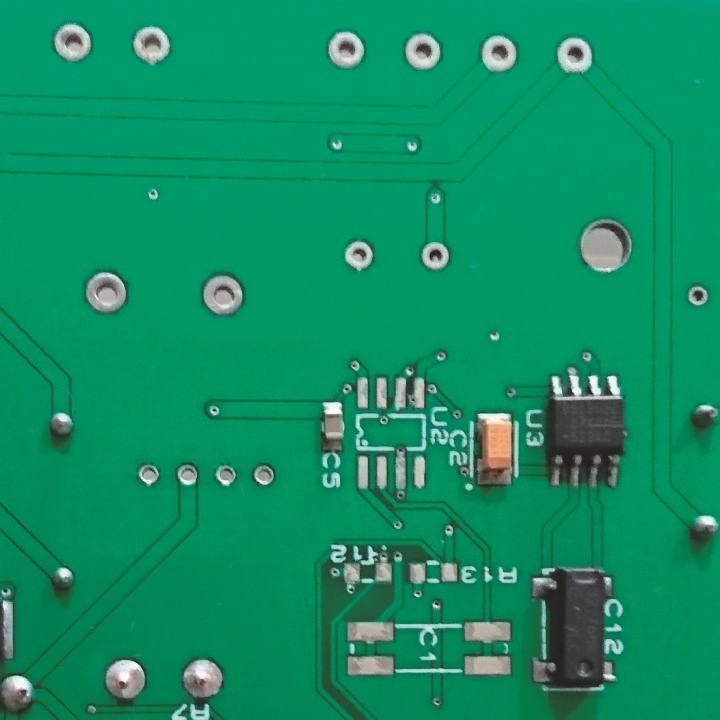F: (179, 652, 225, 703), (50, 21, 98, 66), (101, 656, 147, 702), (199, 271, 244, 318), (555, 30, 596, 80), (83, 269, 127, 315), (130, 23, 175, 67), (477, 30, 517, 78), (324, 28, 366, 73), (403, 31, 443, 75), (342, 235, 376, 275), (421, 240, 452, 275), (133, 461, 163, 489), (250, 460, 277, 490), (174, 463, 202, 488), (685, 281, 710, 309), (214, 461, 238, 489)
